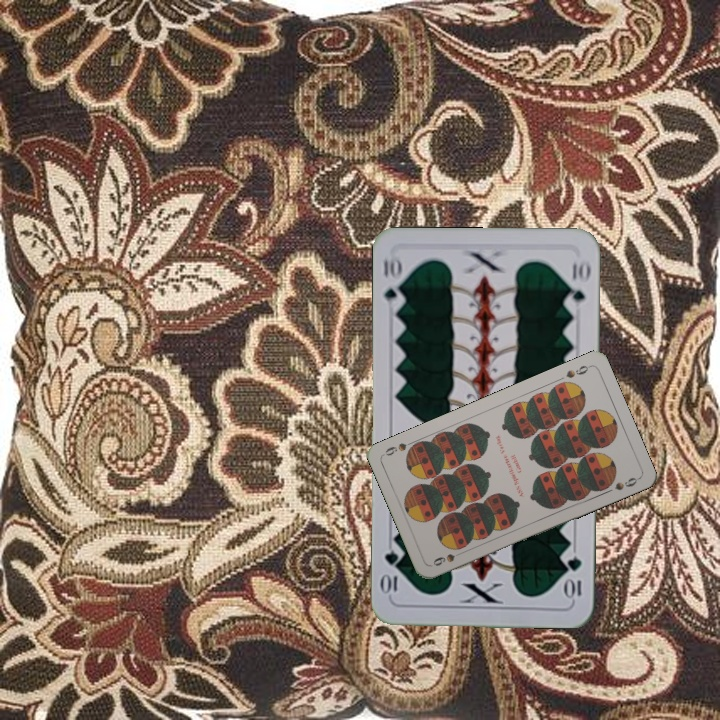G10: (379, 252, 406, 311), (564, 553, 584, 601)
S9: (429, 546, 467, 569), (562, 361, 593, 381)
